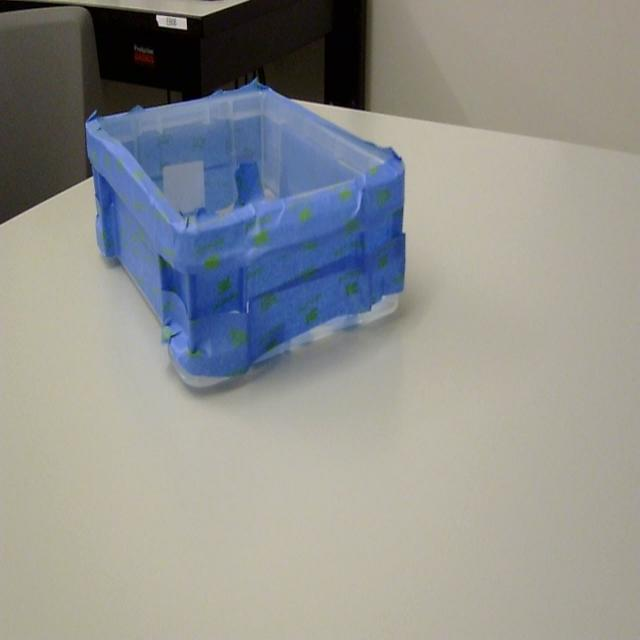bucket: (85, 84, 406, 396)
